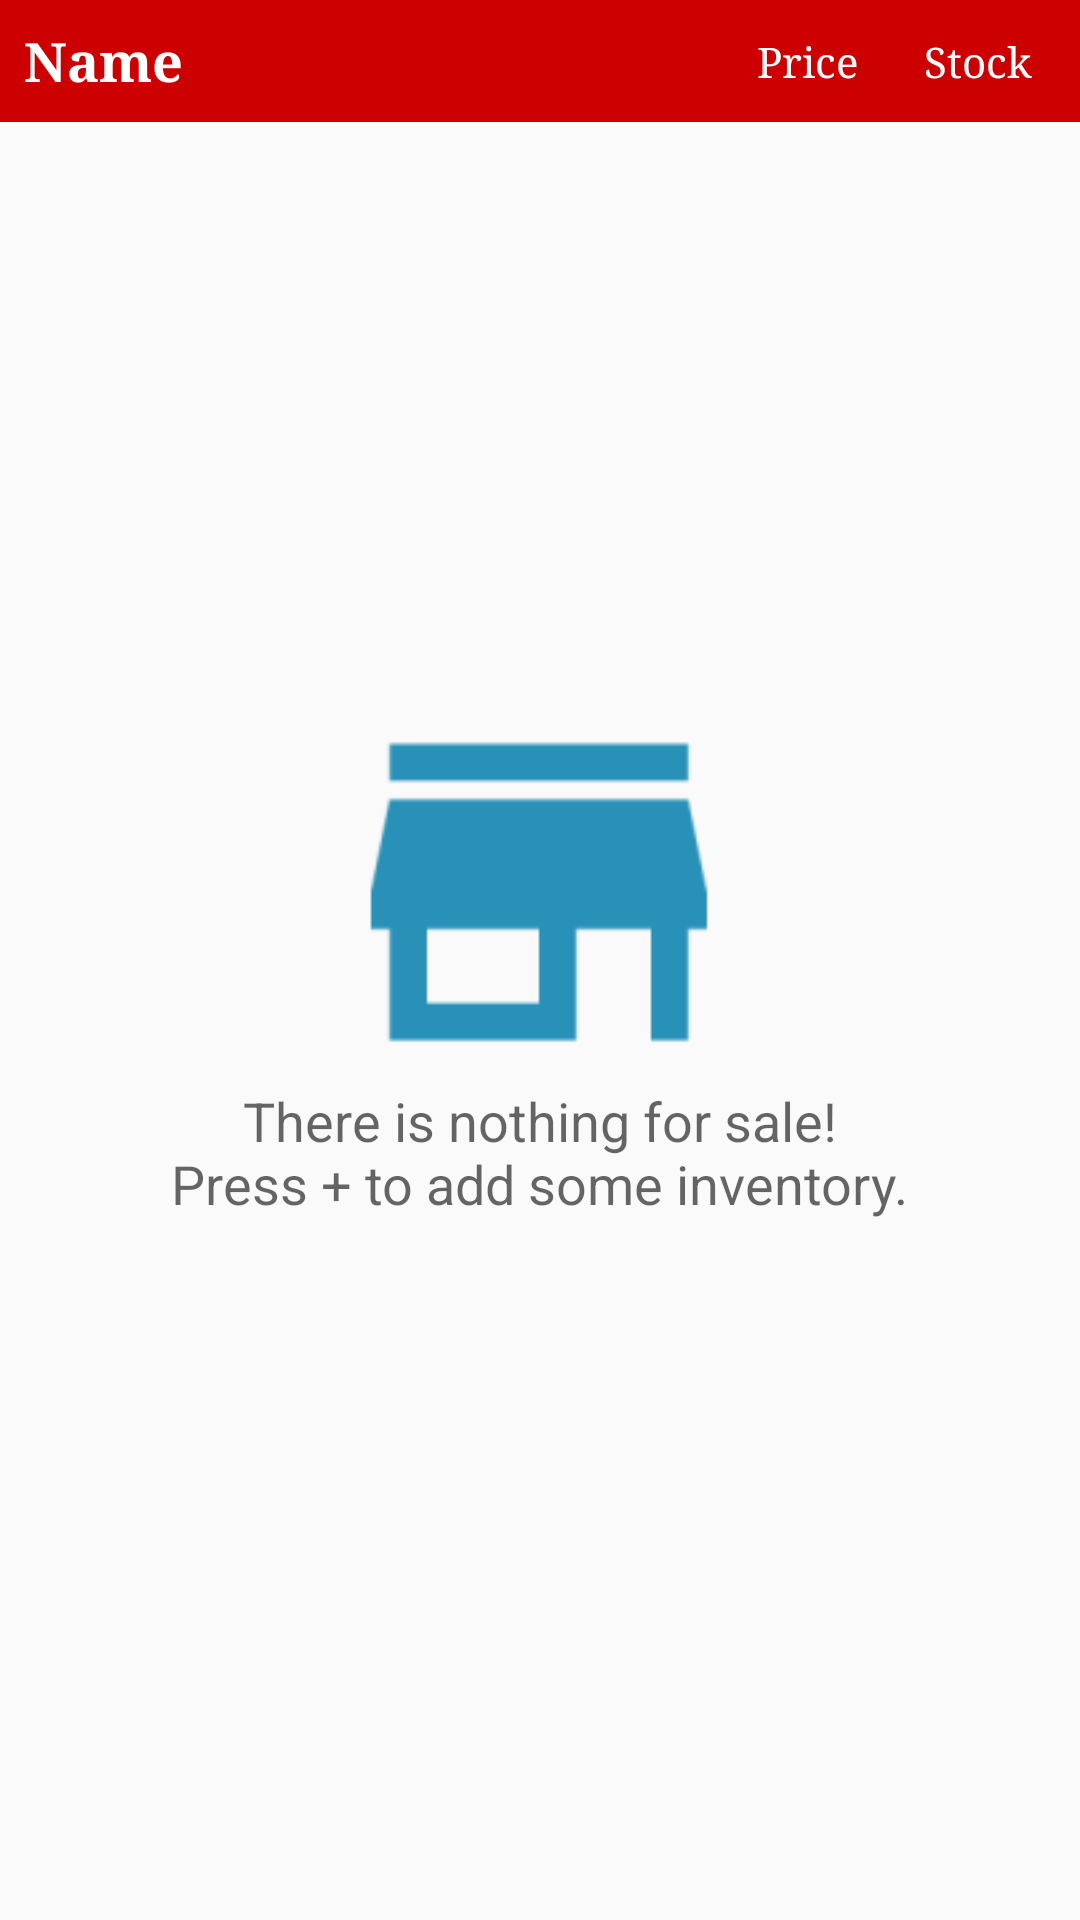

Point at icon controls on the screen. Image size 1080 × 1920, points as [x,y].
Picture of a store: [539,892]
